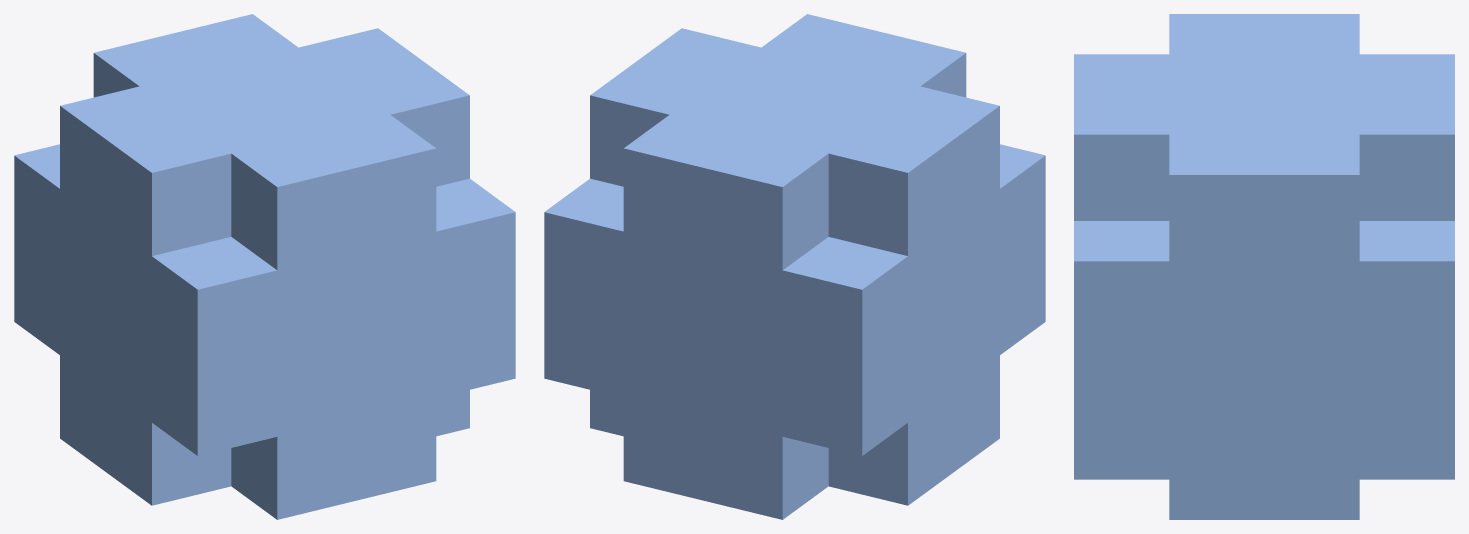
Rendered from Snowball.obj.
The picture shows the model from 3 angles, left to right: view 1: azimuth 30°, elevation 25°; view 2: azimuth 150°, elevation 25°; view 3: azimuth 270°, elevation 25°; orthographic projection. The views are drawn at different scales.
Size of the model in its own units: 0.4 by 0.4 by 0.4.
1 material, 1 textured.
